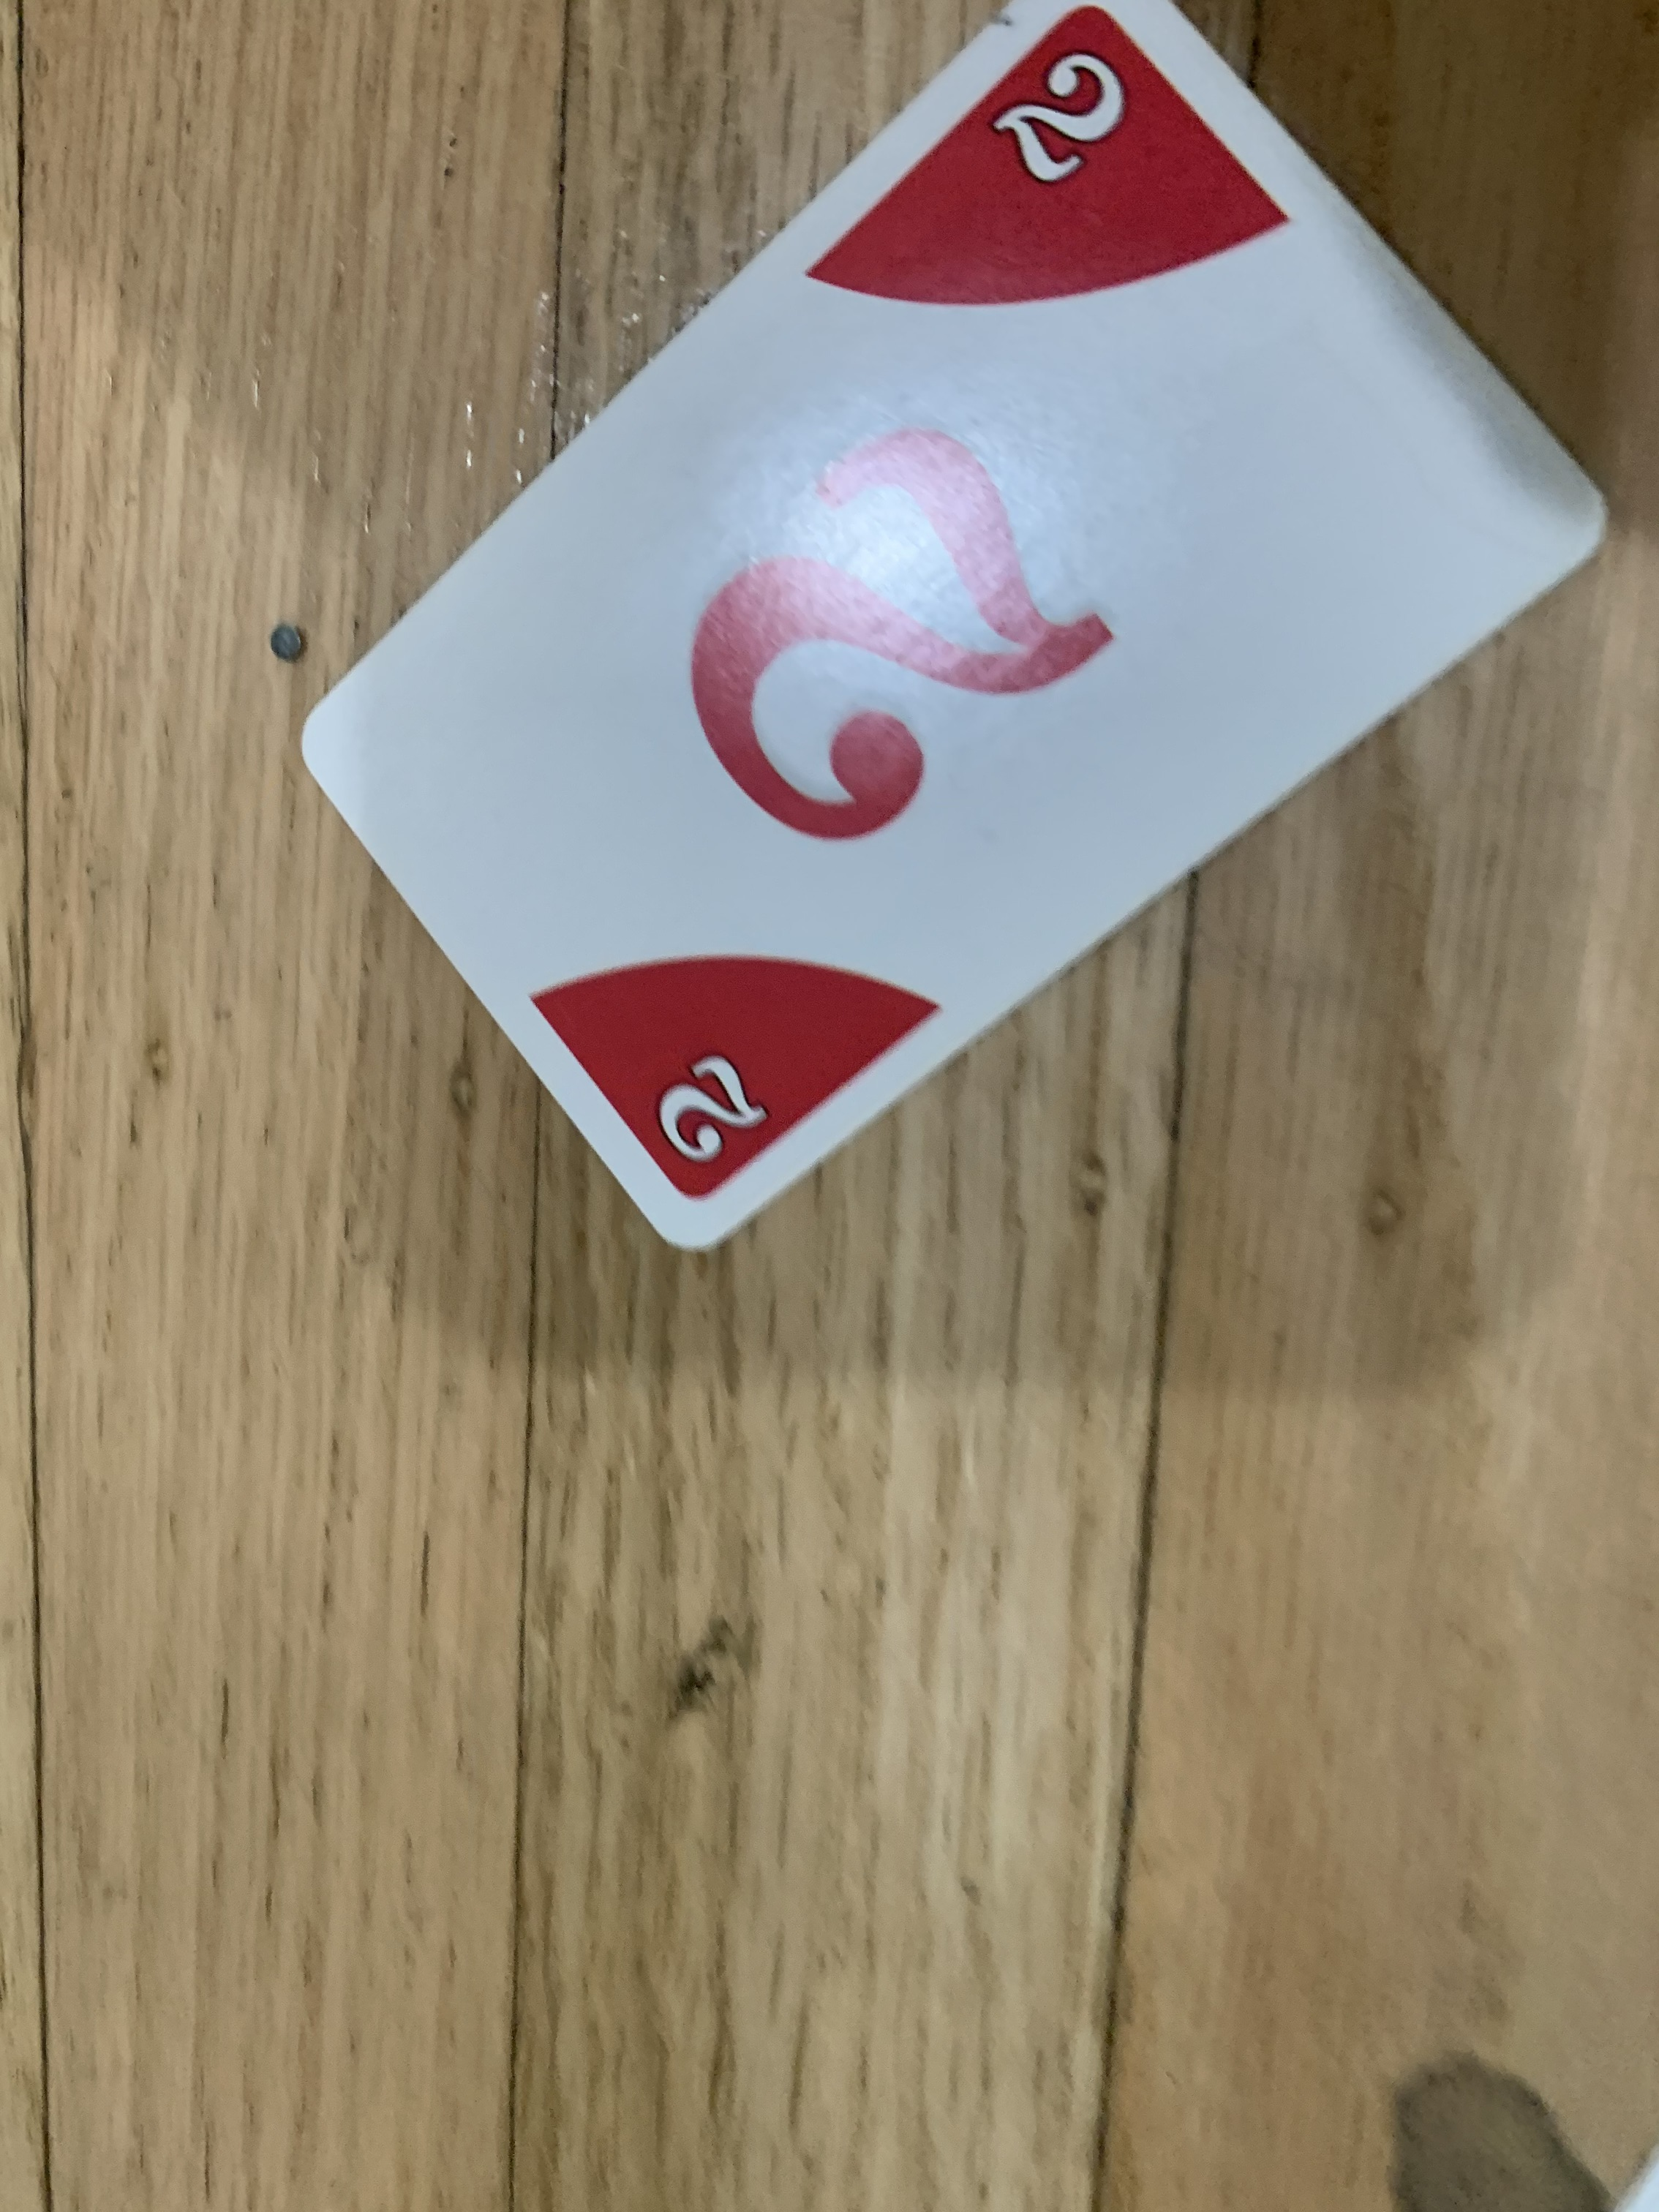two: (268, 5, 1608, 1254)
